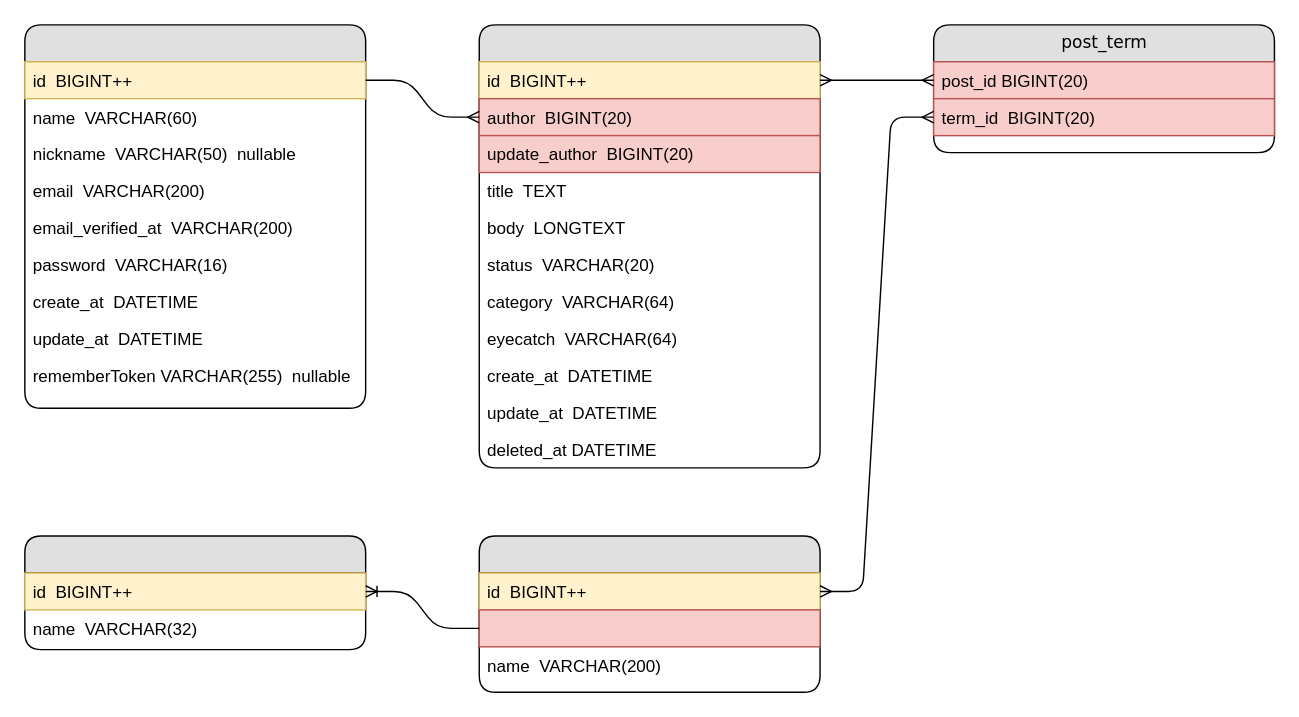
Image size: 1299x717. Some labels were removed from this diagram. The shapes that lost their labels are listed below. From the top down, each one's box as (x1, y1, x2, y2) in pixels, then its label:
(23, 23, 366, 408): user
(478, 23, 820, 468): post
(23, 535, 366, 650): taxonomy
(478, 535, 820, 692): term
(478, 608, 820, 647): taxonomy_id BIGINT
